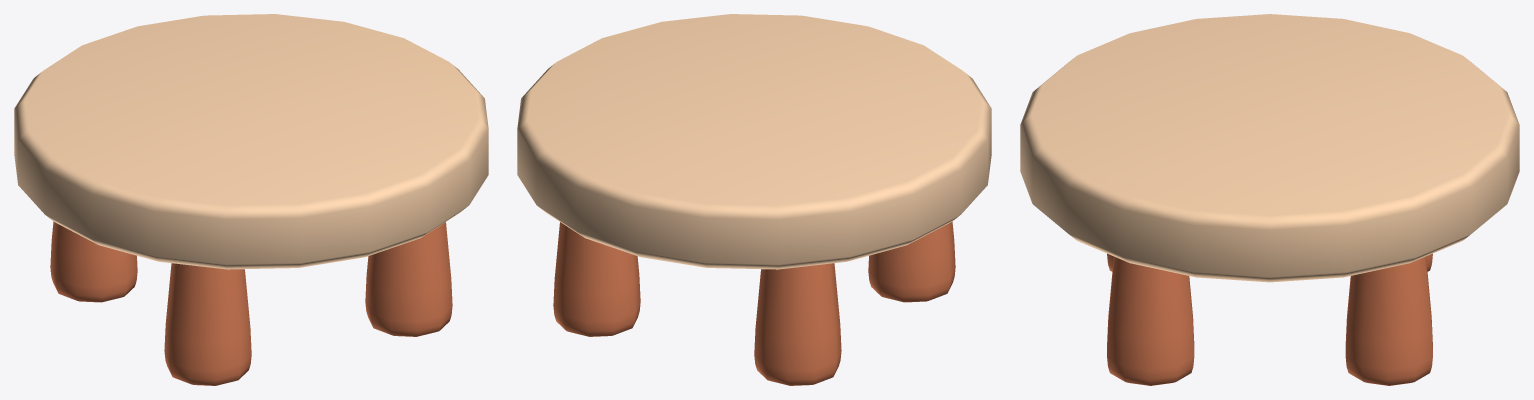
File: Decor_Bantron.fbx
3 views of the same model, side by side, from view 1: azimuth 30°, elevation 25°; view 2: azimuth 150°, elevation 25°; view 3: azimuth 270°, elevation 25° (orthographic). The views are drawn at different scales.
Visible parts, largest first — view 1: Decor_Bantron; view 2: Decor_Bantron; view 3: Decor_Bantron.
Part boxes in pixels (bbox=[...]): Decor_Bantron: bbox=[14, 14, 488, 385]; Decor_Bantron: bbox=[517, 14, 991, 385]; Decor_Bantron: bbox=[1020, 14, 1519, 385].
Bounding box in the file's own units: 161 × 72.87 × 161.
